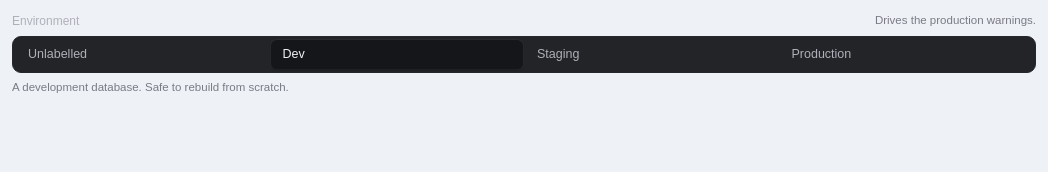
Test: when the server refuses › and whatever other reason it gives
Click the radio button labelled "Staging": (651, 54) [525, 40, 778, 69]
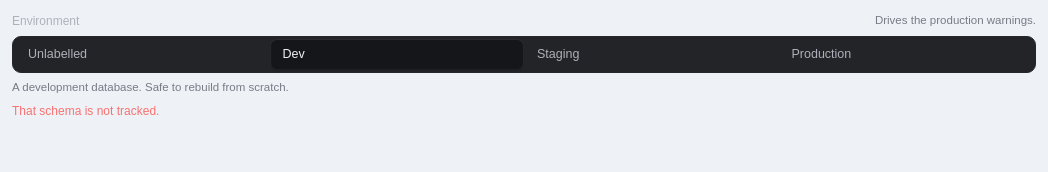
Expected: the text "That schema is not tracked." is shown, [12, 104, 159, 118]
